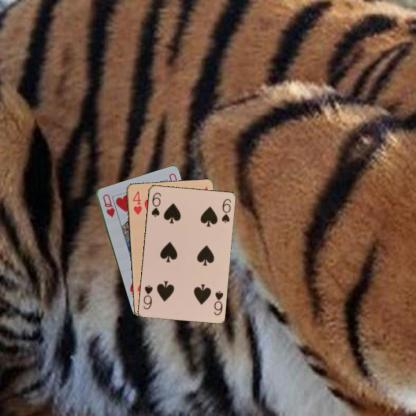4h: (130, 188, 143, 216)
6s: (148, 189, 162, 218), (211, 288, 224, 316)
Qh: (100, 192, 116, 219)
